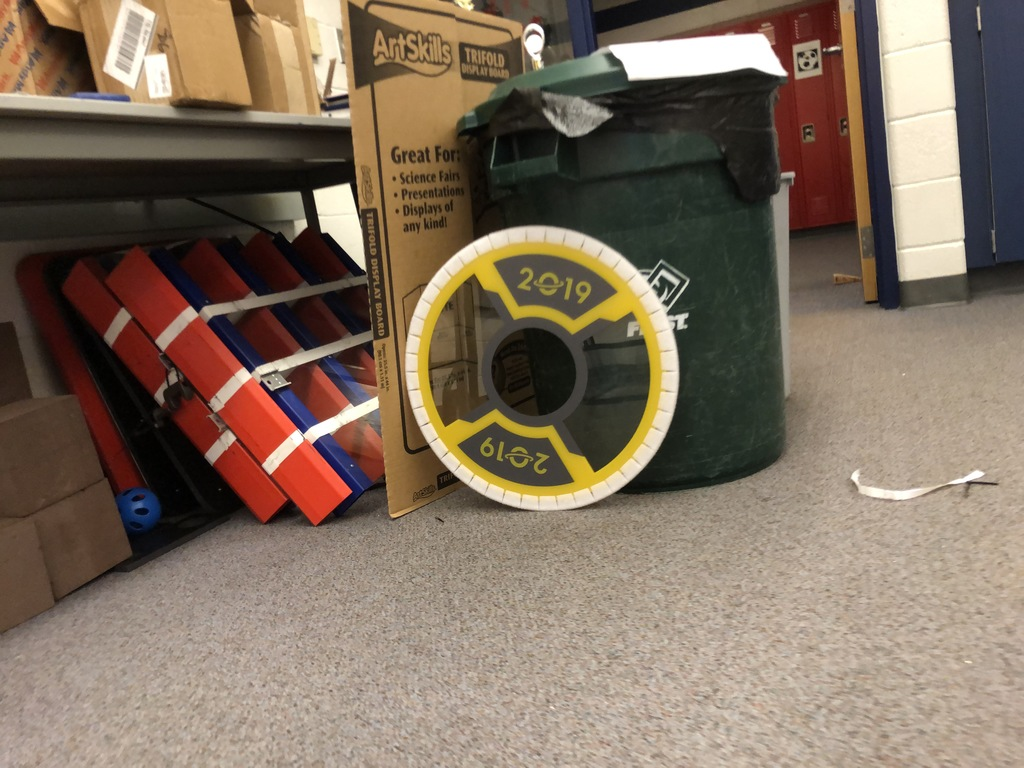hatch_panel: (393, 215, 689, 519)
